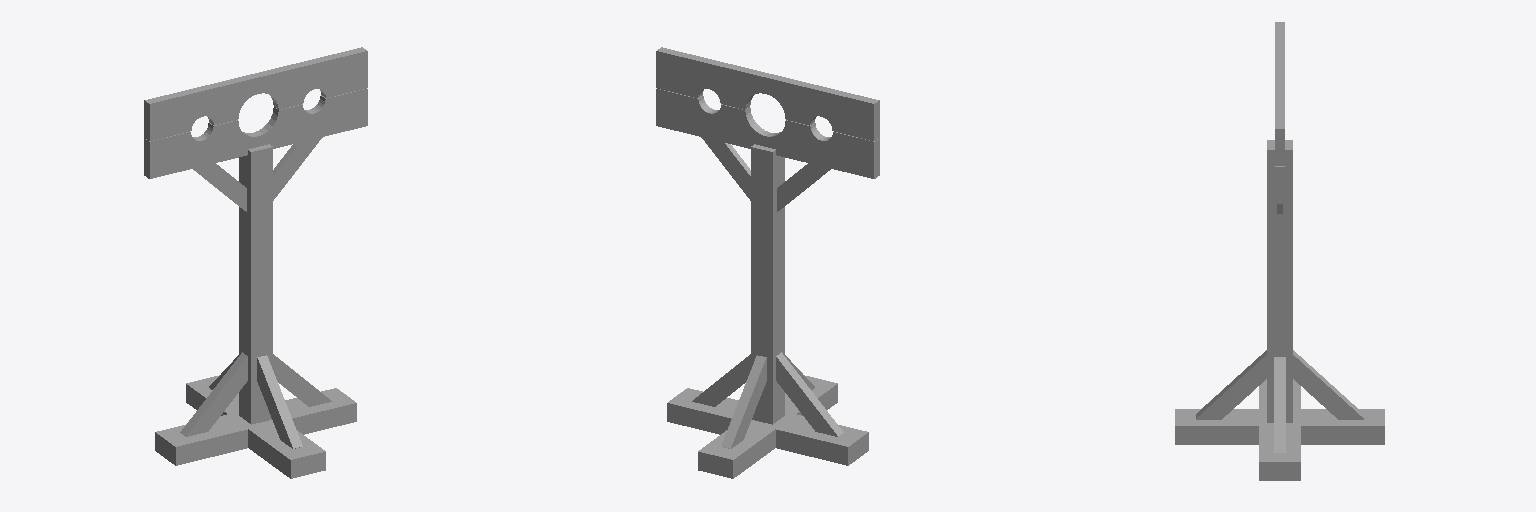
File: pillory.obj
The picture shows the model from 3 angles: view 1: azimuth 30°, elevation 25°; view 2: azimuth 150°, elevation 25°; view 3: azimuth 270°, elevation 25°; orthographic projection.
Parts seen in each view (by area): view 1: Stand, Top, Bottom; view 2: Stand, Top, Bottom; view 3: Stand, Top.
Part boxes in pixels (bbox=[...]): Stand: bbox=[155, 137, 356, 478]; Top: bbox=[144, 47, 367, 140]; Bottom: bbox=[144, 89, 367, 178]; Stand: bbox=[667, 137, 868, 478]; Top: bbox=[656, 47, 879, 140]; Bottom: bbox=[656, 89, 879, 178]; Stand: bbox=[1175, 140, 1384, 480]; Top: bbox=[1275, 22, 1284, 165].
Size of the model in its own units: 0.9584 by 1.52 by 0.7973.